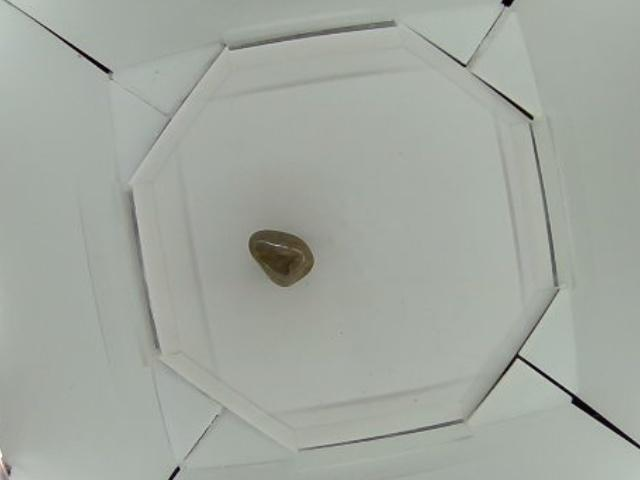Pebble: (247, 227, 316, 287)
